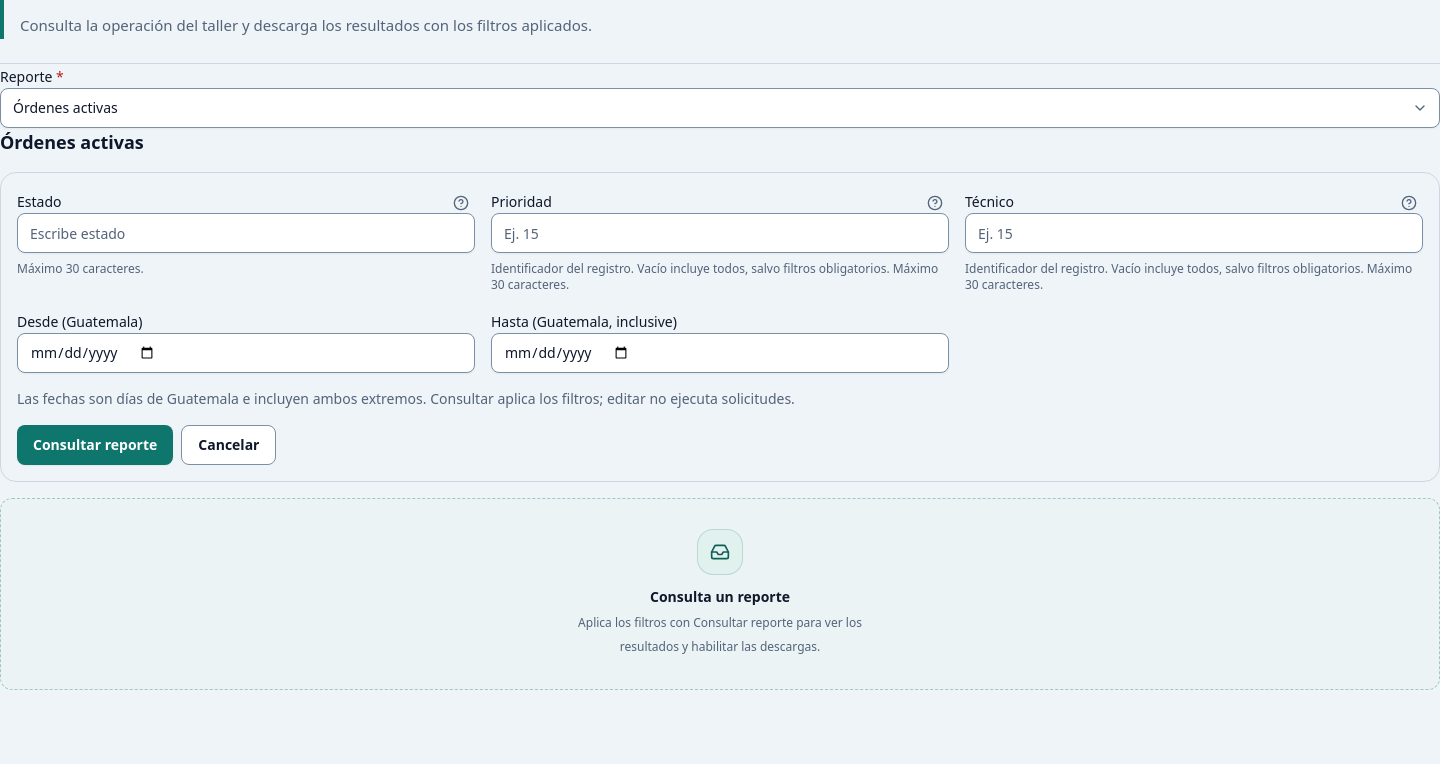
Test: reportes conectados › solo consulta filtros ejecutados, usa camelCase y no presenta resultados anteriores al editar
Select "Inventario por bodega" in the dropdown labelled "Reporte *" at {"x": 720, "y": 108}, box [0,88,1439,128]
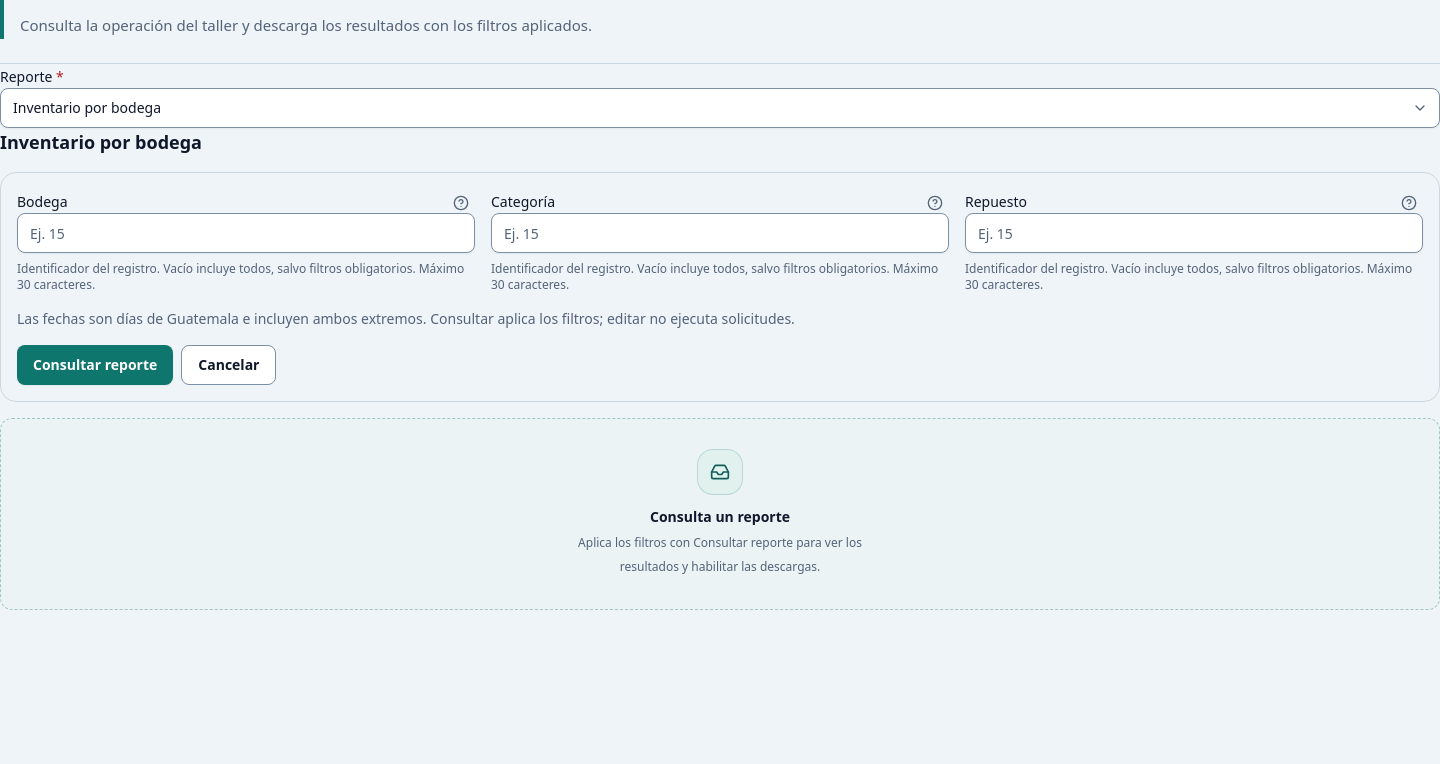
Type "1" into the field labelled "Bodega".
click(246, 233); type("1")  # box [17,213,475,253]
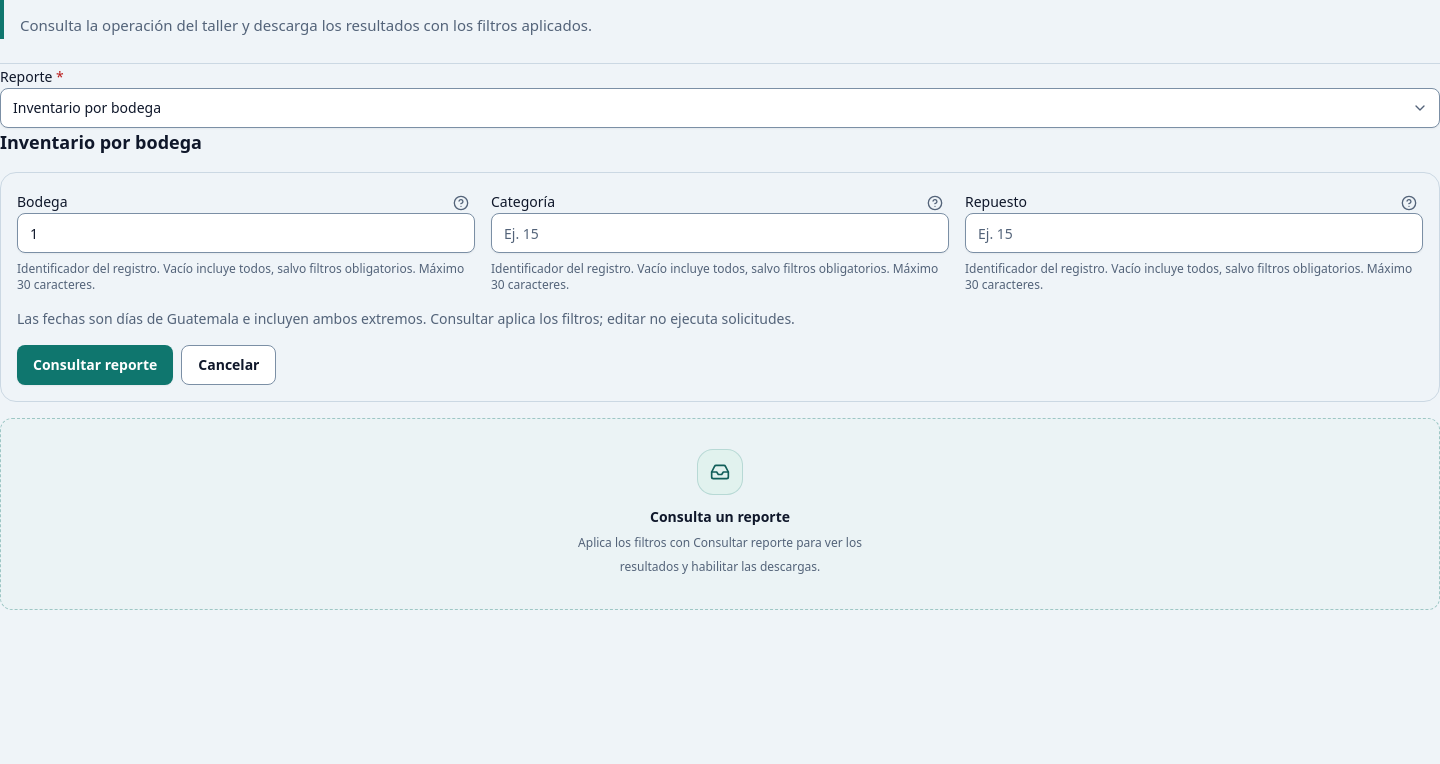
Click the button "Consultar reporte".
click(95, 365)  # box [17,345,173,385]
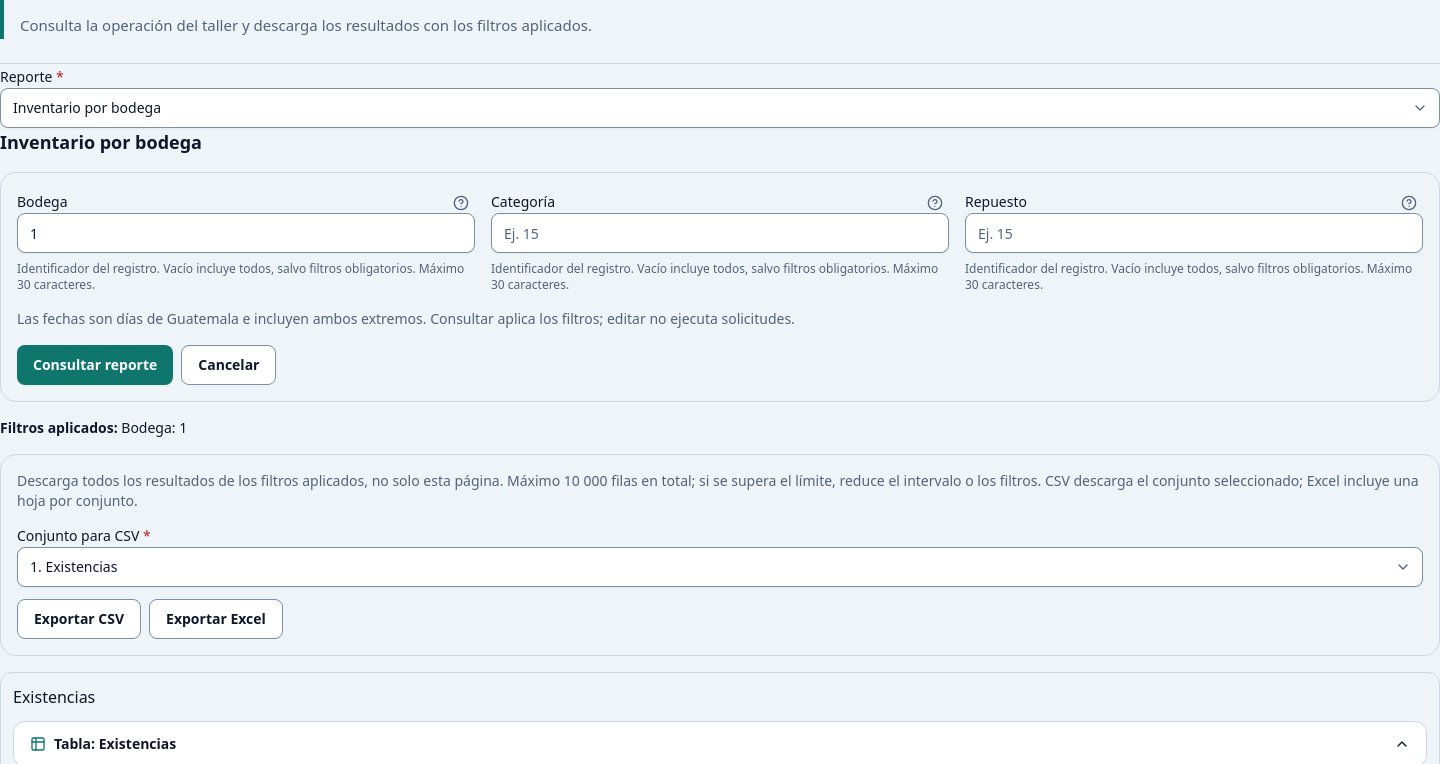
Replace the text in the field labelled "Bodega" with "2" at {"x": 246, "y": 233}, box [17,213,475,253]
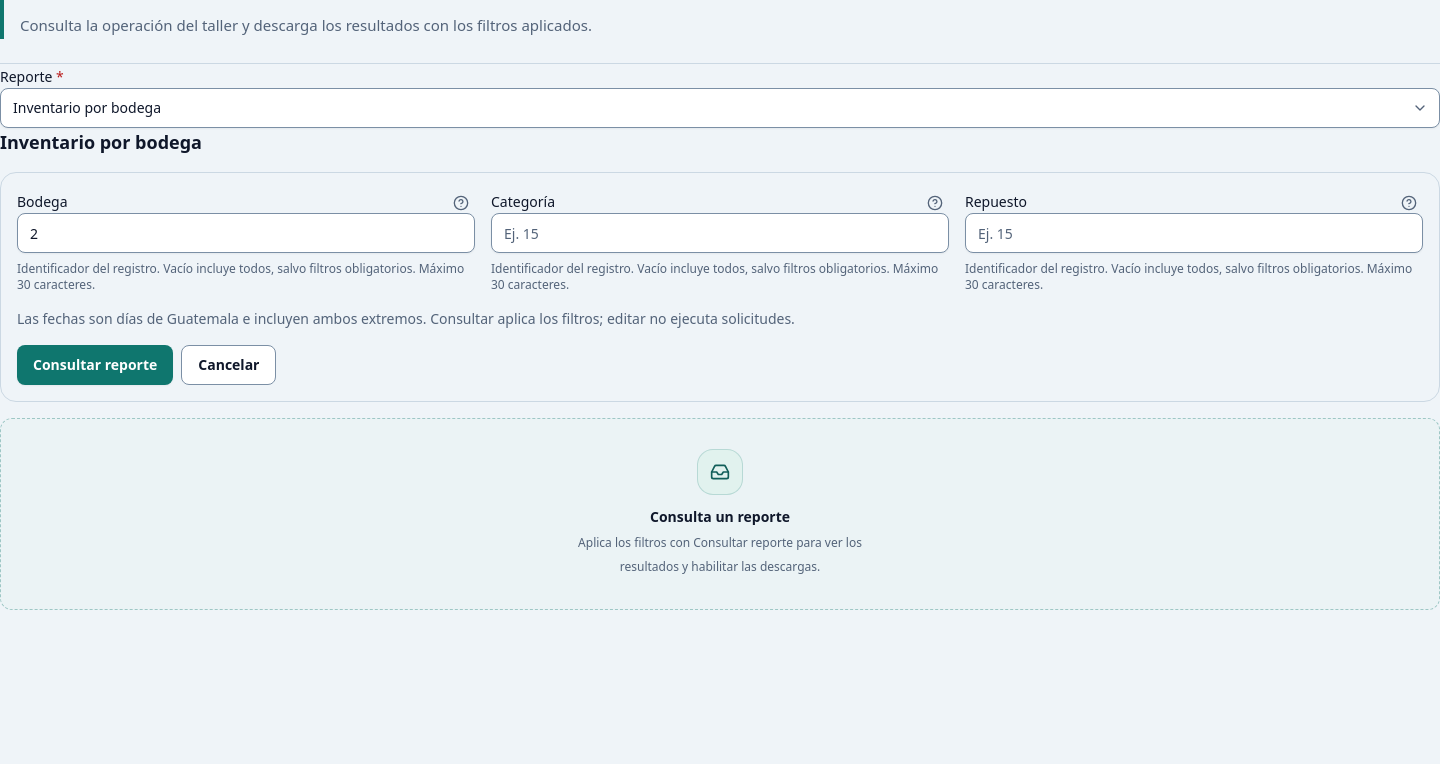
Check: the button "Exportar CSV" is gone
Click the button "Consultar reporte".
click(95, 365)  # box [17,345,173,385]
(page scrolled)
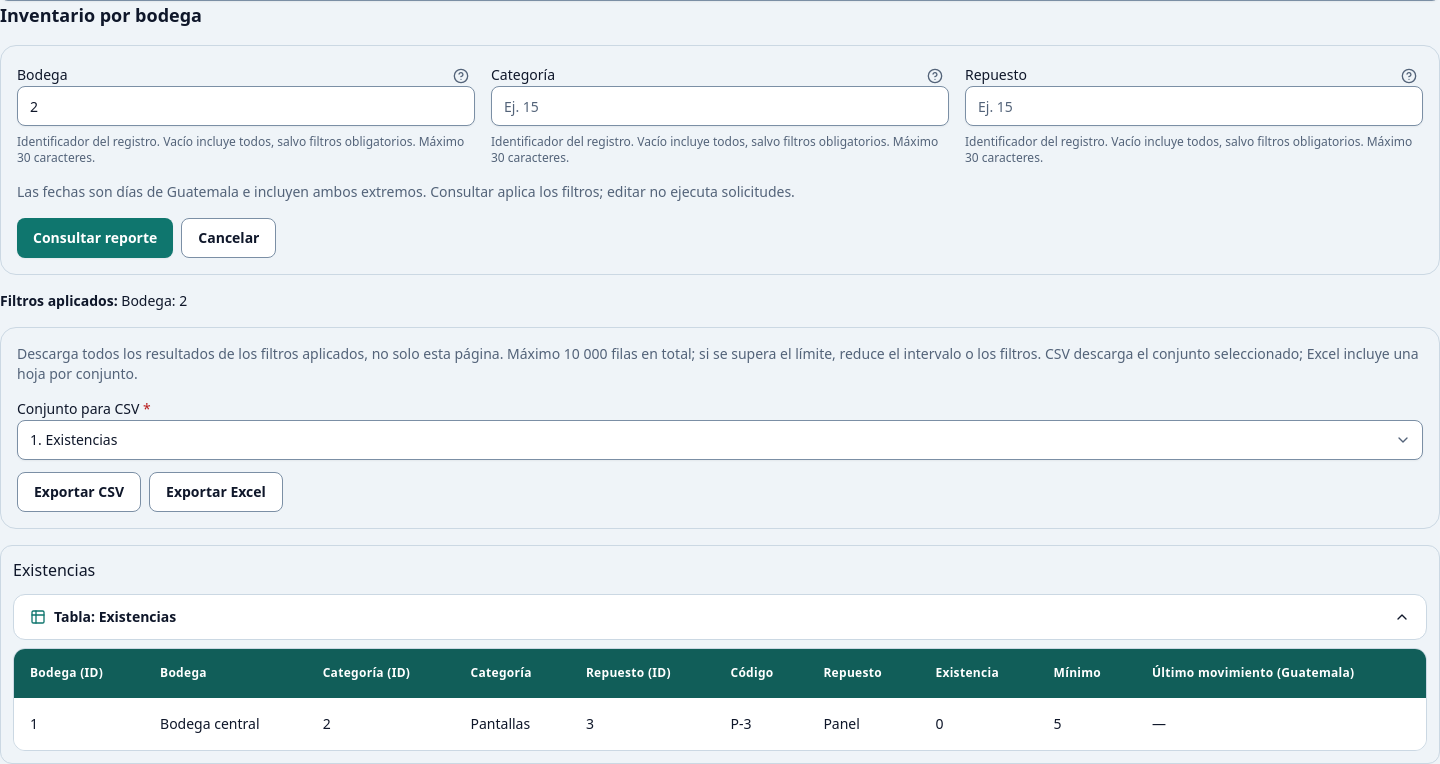
Check: the table is shown, box [14,649,1426,750]
